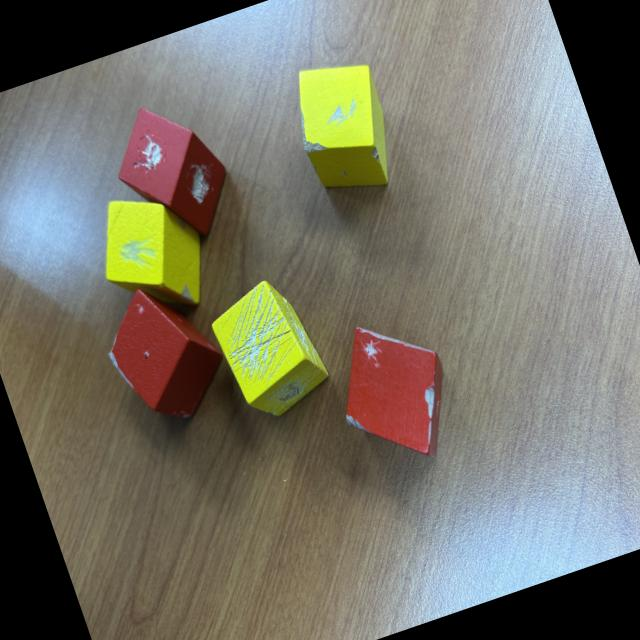broken: (319, 306, 470, 484), (90, 269, 240, 438), (100, 88, 244, 256), (201, 268, 337, 430), (84, 176, 222, 332), (280, 48, 408, 206)
